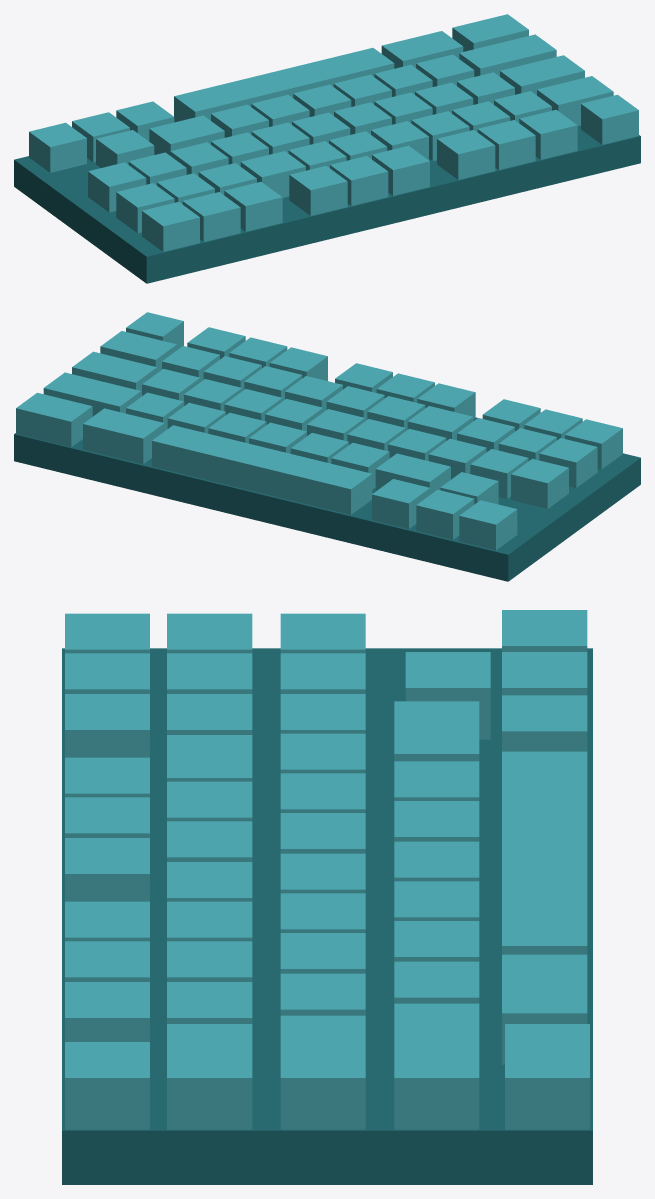
The model's file is klawiatura.gltf.
3 renders of one model, top to bottom at view 1: azimuth 30°, elevation 25°; view 2: azimuth 150°, elevation 25°; view 3: azimuth 270°, elevation 25°, orthographic. The views are drawn at different scales.
Visible parts, largest first — view 1: cube (×48); view 2: cube (×48); view 3: cube (×48).
Boxes of the visible parts, box(x1,y1,x2,y2) form: cube (×48): box(14, 14, 640, 283); cube (×48): box(14, 312, 640, 581); cube (×48): box(62, 610, 592, 1184).
Size of the model in its own units: 0.6281 by 0.0641 by 0.2922.
1 material, 1 textured.
